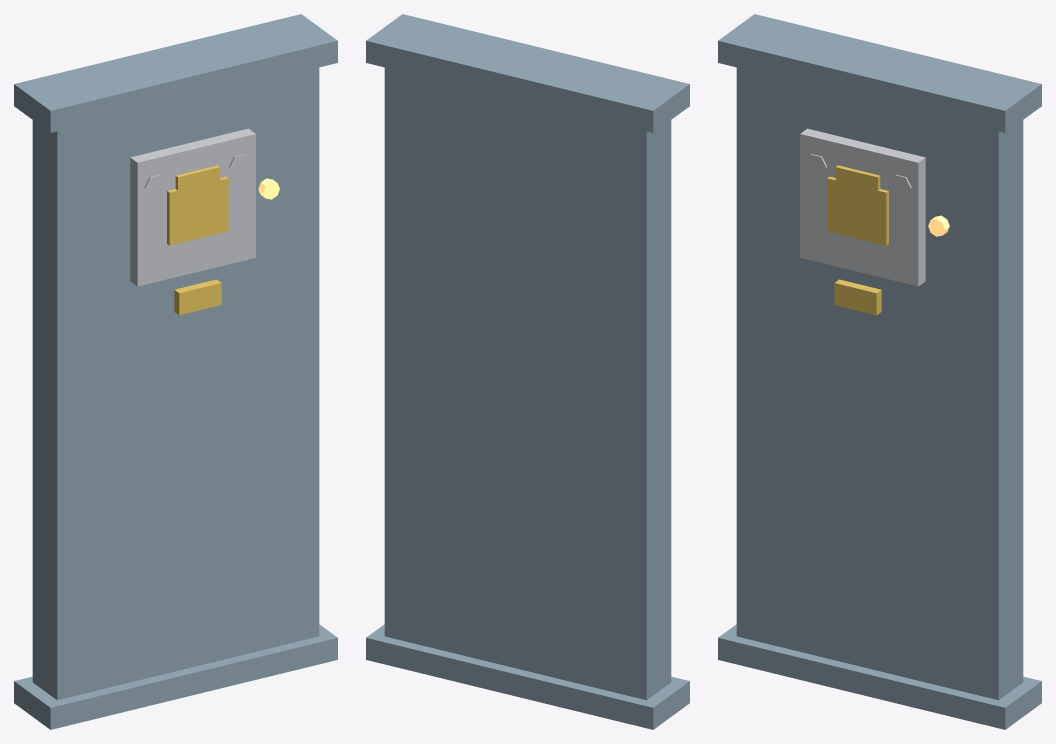
The model's file is animated-mechanisms-kit-wall-switch-4f8313d4__24633.glb.
3 views of the same model, side by side, from view 1: azimuth 30°, elevation 25°; view 2: azimuth 150°, elevation 25°; view 3: azimuth 330°, elevation 25° (orthographic).
Visible parts, largest first — view 1: wall-switch, rocker; view 2: wall-switch; view 3: wall-switch, rocker.
Part boxes in pixels (left/top/right/bottom): wall-switch: left=14, top=14, right=337, bottom=729; rocker: left=167, top=165, right=228, bottom=245; wall-switch: left=366, top=14, right=689, bottom=729; wall-switch: left=718, top=14, right=1041, bottom=729; rocker: left=827, top=165, right=888, bottom=245.
Size of the model in its own units: 0.6799 by 1.4 by 0.175.
